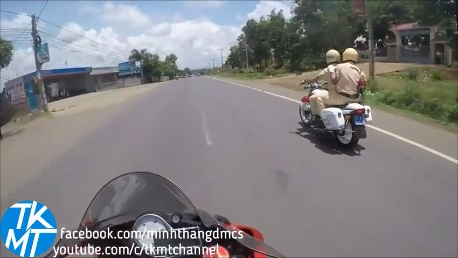police: (294, 46, 378, 156)
